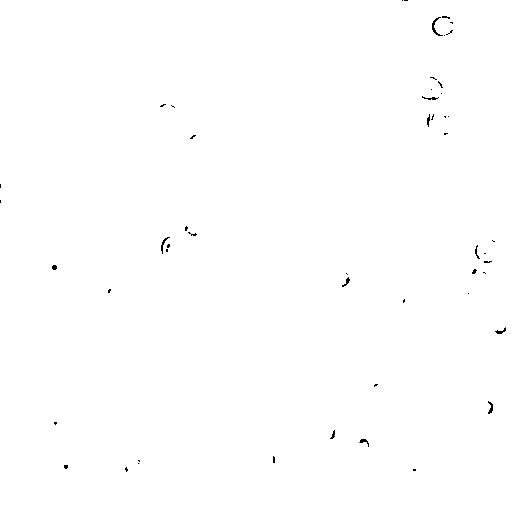micro-algae: (8, 36, 89, 117), (160, 366, 228, 435), (245, 447, 311, 511), (75, 249, 133, 304), (109, 443, 151, 483), (478, 57, 511, 98), (97, 483, 142, 511), (423, 105, 459, 138), (160, 232, 190, 263), (236, 27, 268, 56), (141, 238, 172, 266), (384, 282, 413, 311), (414, 75, 444, 101), (39, 251, 69, 277), (366, 372, 391, 403), (474, 237, 501, 264), (162, 45, 188, 73), (41, 409, 65, 439), (466, 267, 491, 293), (424, 224, 448, 250), (431, 15, 458, 38), (405, 463, 432, 485), (25, 418, 49, 442), (185, 131, 209, 154), (56, 453, 79, 477), (255, 449, 277, 473), (329, 268, 351, 289), (157, 103, 179, 122), (239, 415, 258, 436), (462, 290, 483, 309), (175, 368, 195, 387), (41, 110, 59, 130), (123, 451, 143, 469), (489, 315, 507, 335), (320, 423, 338, 442), (143, 289, 163, 306), (1, 181, 16, 203), (356, 435, 373, 453), (89, 265, 105, 283), (383, 219, 398, 238), (105, 285, 122, 301), (184, 220, 202, 235), (400, 228, 415, 244), (339, 504, 367, 512), (480, 399, 494, 415), (395, 0, 413, 5)
